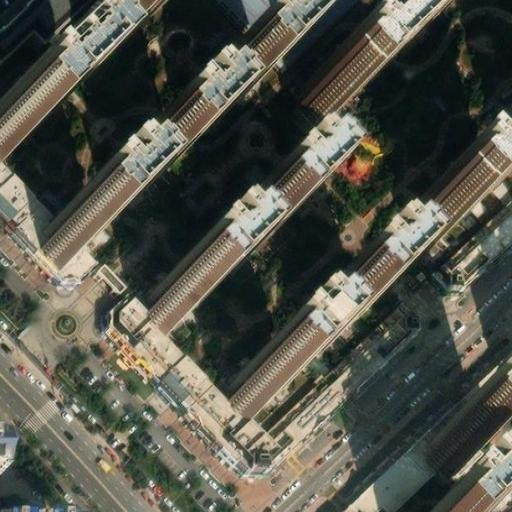building: (117, 289, 419, 455), (292, 38, 385, 130), (405, 153, 495, 242), (433, 189, 512, 277), (0, 68, 68, 155), (195, 44, 266, 113), (114, 126, 184, 195), (423, 405, 492, 475), (135, 265, 203, 334), (0, 155, 53, 241), (39, 193, 106, 261), (243, 164, 310, 230), (325, 252, 389, 319), (228, 346, 291, 411), (59, 236, 103, 272), (0, 434, 15, 474), (0, 499, 41, 512)
